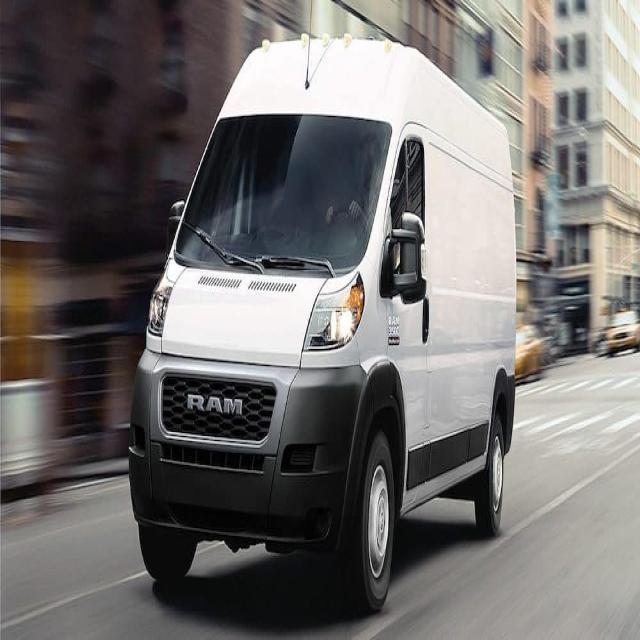truck: (127, 30, 518, 614)
